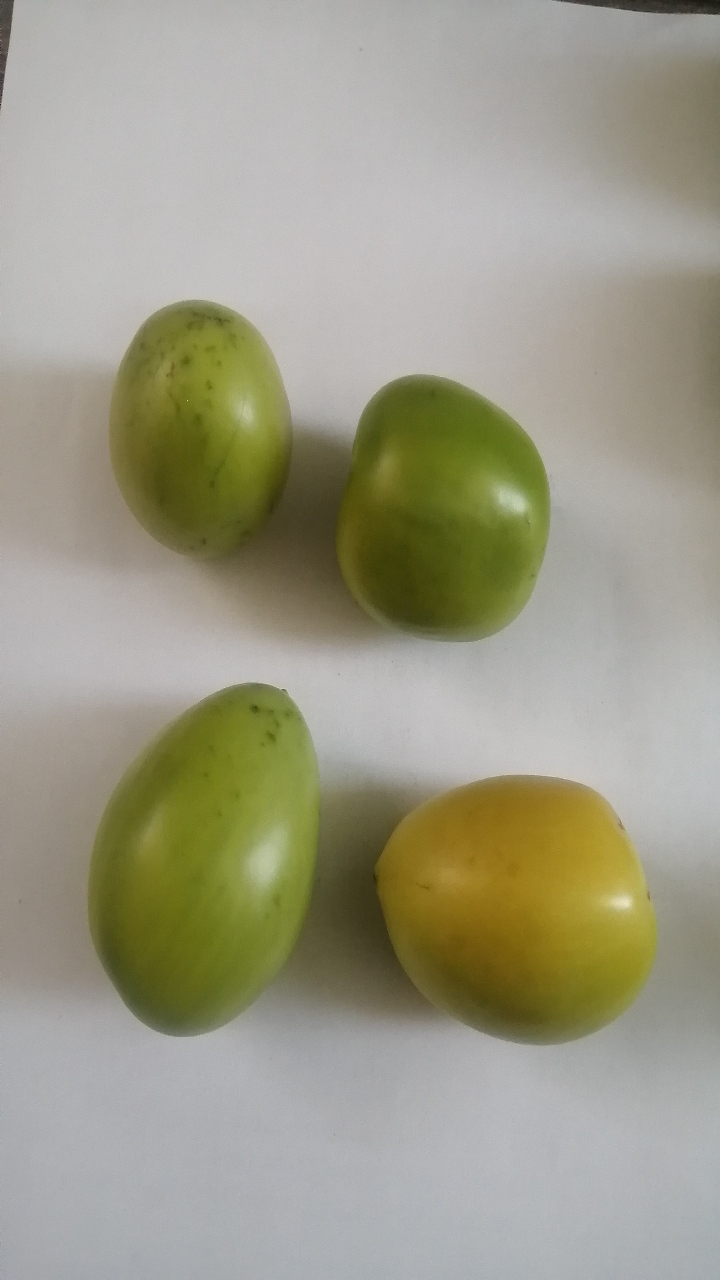tomateVerde: (361, 743, 674, 1079), (66, 660, 335, 1040), (328, 359, 568, 668), (80, 262, 303, 585)
